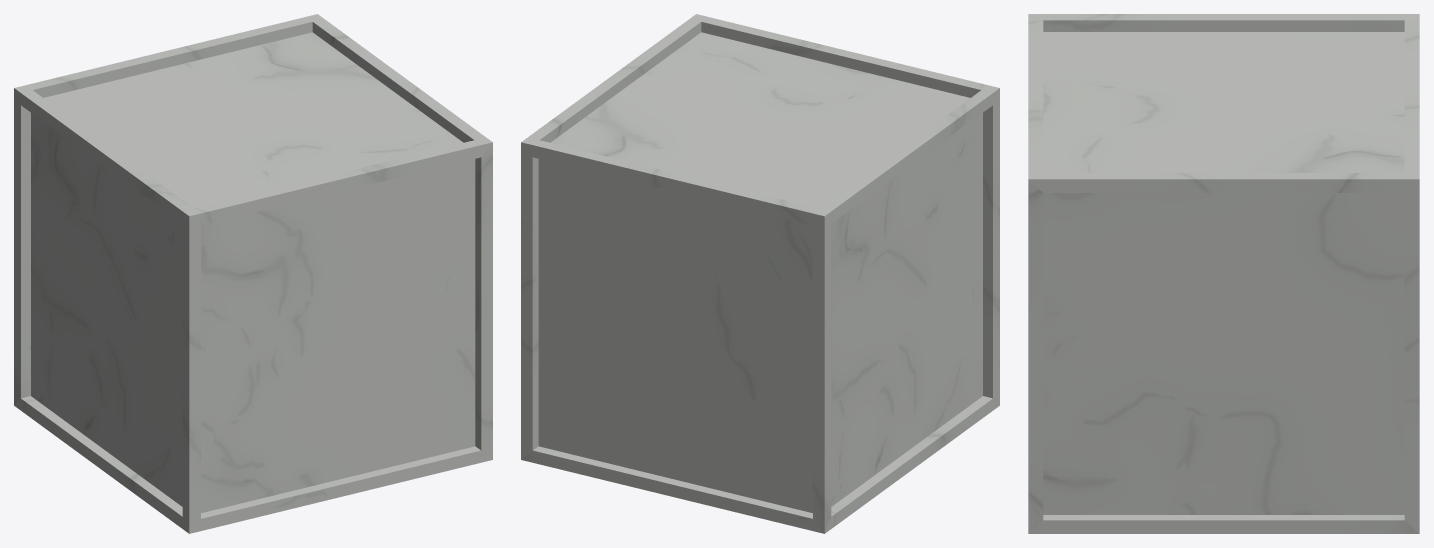
3 renders of one model, left to right at view 1: azimuth 30°, elevation 25°; view 2: azimuth 150°, elevation 25°; view 3: azimuth 270°, elevation 25°, orthographic. The views are drawn at different scales.
Parts seen in each view (by area): view 1: SM_Cube_High_Poly; view 2: SM_Cube_High_Poly; view 3: SM_Cube_High_Poly.
Boxes of the visible parts, box(x1,y1,x2,y2) form: SM_Cube_High_Poly: box(14, 14, 492, 533); SM_Cube_High_Poly: box(521, 14, 999, 533); SM_Cube_High_Poly: box(1028, 14, 1419, 533).
Bounding box in the file's own units: 2 × 2 × 2.
